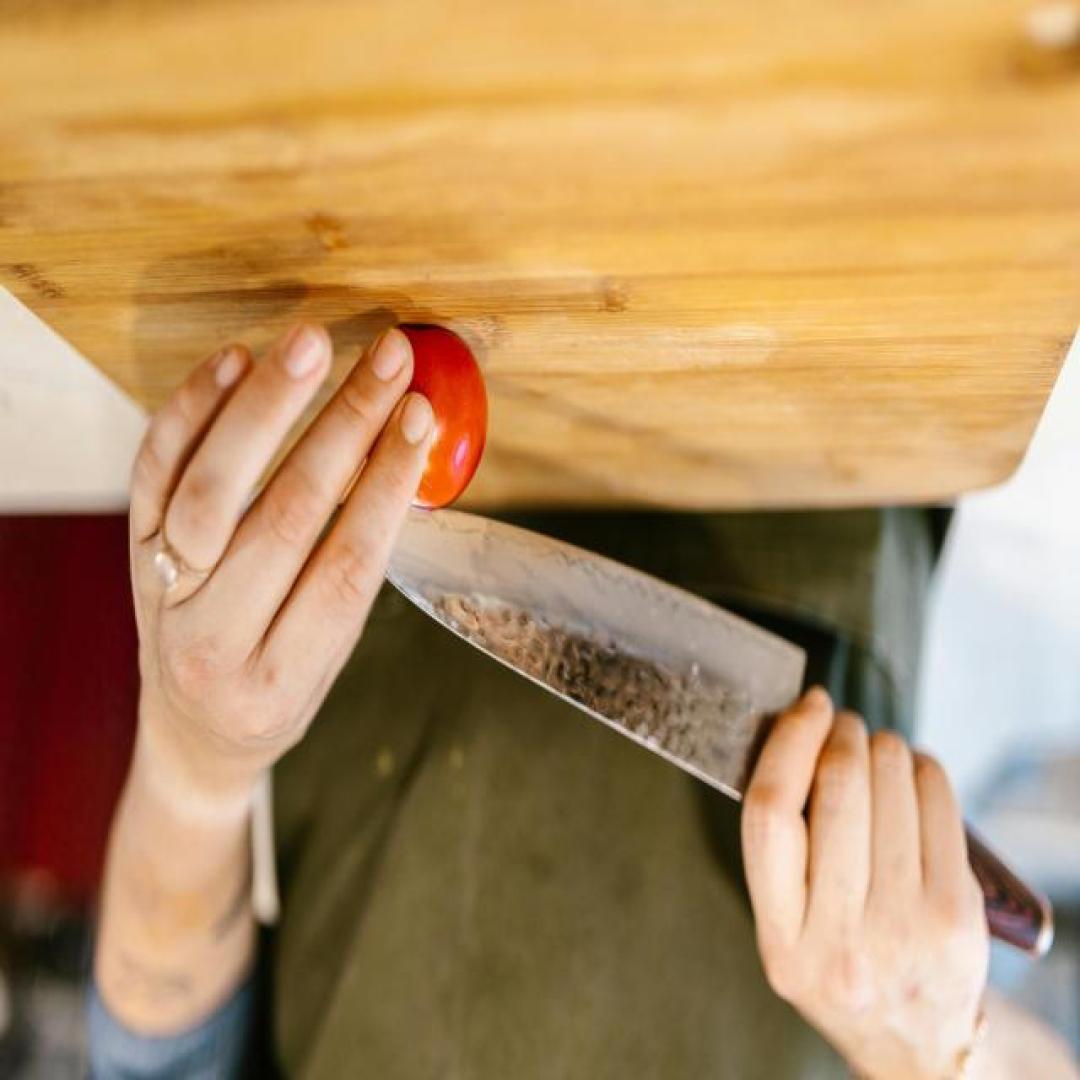matang: (361, 326, 488, 513)
